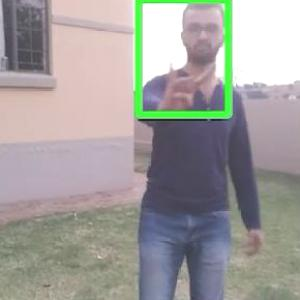takeoff-hand: (157, 50, 217, 120)
